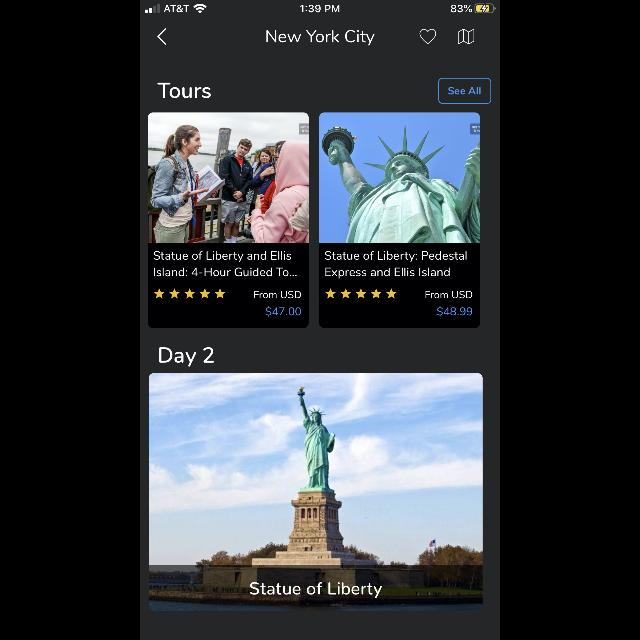icon: (154, 289, 226, 299), (326, 289, 396, 299), (458, 30, 474, 44), (420, 30, 436, 44), (158, 29, 166, 45)
image: (150, 373, 482, 611), (319, 113, 479, 243), (148, 113, 308, 243)
text: (250, 582, 382, 598), (268, 30, 374, 46), (326, 252, 466, 262), (154, 252, 292, 262), (326, 268, 450, 278), (155, 268, 297, 276), (160, 348, 214, 367), (157, 83, 210, 99), (266, 307, 302, 317), (438, 306, 472, 316), (426, 292, 472, 298), (255, 292, 301, 298)
textbutton: (439, 78, 491, 104)
uppertaskbar: (140, 0, 500, 14)
